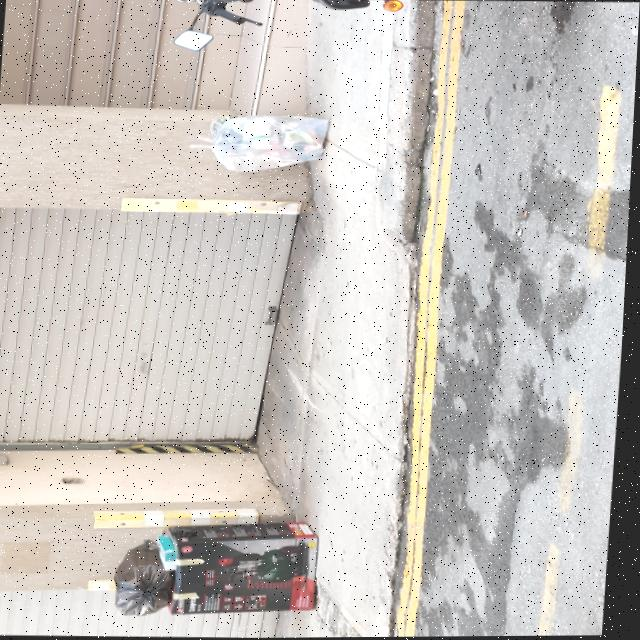Mixed Waste -Black Bag-: (119, 538, 184, 617)
Other: (166, 518, 326, 617), (161, 535, 185, 571)
Recycled Waste -Grey or Green Bag-: (187, 113, 331, 173)
